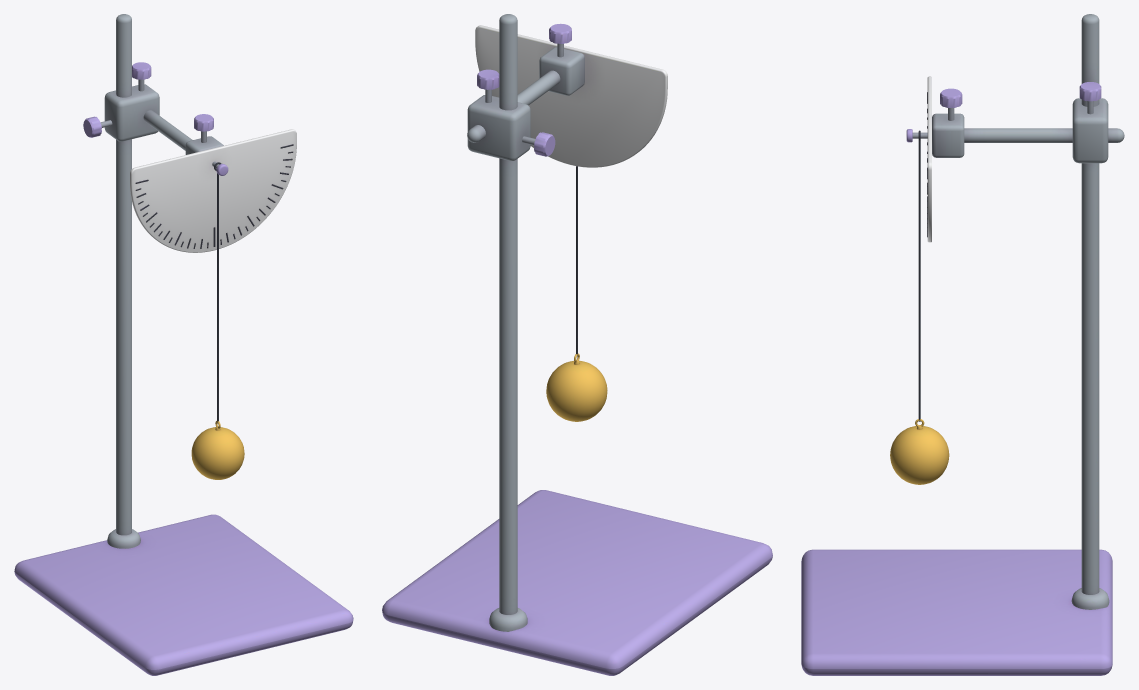
File: pendulum.obj
The picture shows the model from 3 angles, left to right: view 1: azimuth 30°, elevation 25°; view 2: azimuth 150°, elevation 25°; view 3: azimuth 270°, elevation 25°; orthographic projection. The views are drawn at different scales.
Visible parts, largest first — view 1: pendulum_body, pendulum_bob; view 2: pendulum_body, pendulum_bob; view 3: pendulum_body, pendulum_bob.
Part boxes in pixels (box(x1,y1,x2,y2)): pendulum_body: box(14, 14, 353, 675); pendulum_bob: box(191, 162, 244, 479); pendulum_body: box(382, 14, 772, 675); pendulum_bob: box(546, 166, 607, 421); pendulum_body: box(801, 14, 1124, 675); pendulum_bob: box(890, 130, 949, 484).
Size of the model in its own units: 0.18 by 0.452 by 0.218.
Materials: 2 (2 with a texture image).
